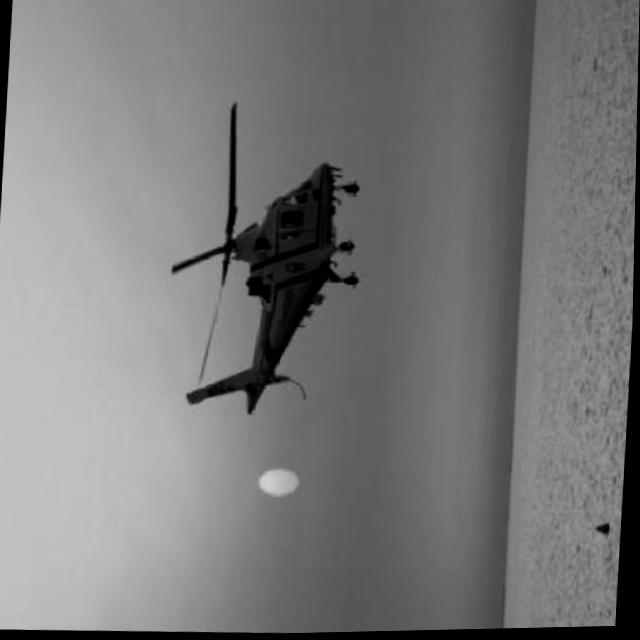helikopter: (148, 95, 384, 422)
